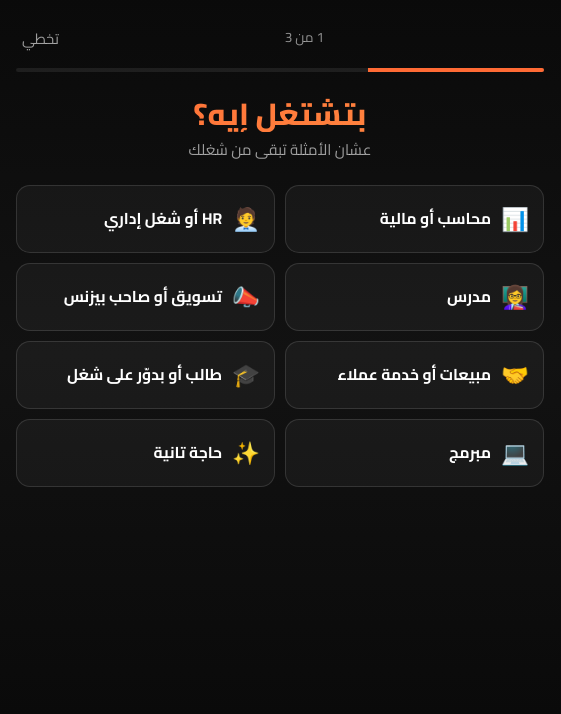
Test case: OnboardingPage › shows a failed save and retries the same answers
Click the radio button labelled "محاسب أو مالية". click: (414, 219)
box: [285,185,544,253]
Wait 250 ms
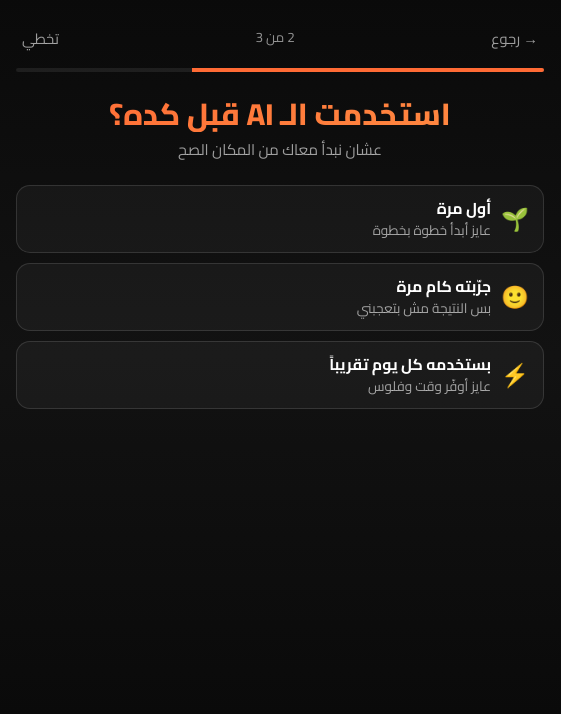
Check: the heading "استخدمت الـ AI قبل كده؟" is shown, box [16,96,544,132]
Click the radio button labelled "🌱 أول مرة عايز أبدأ خطوة بخطوة". click: (464, 208)
box: [16,185,544,253]
Wait 250 ms
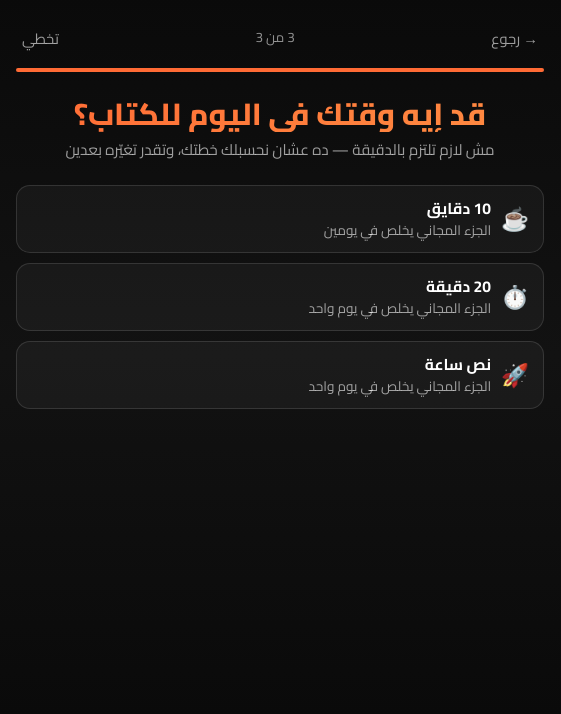
Click the radio button labelled "⏱️ 20 دقيقة الجزء المجاني يخلص في يوم واحد". click: (450, 286)
box: [16,263,544,331]
Wait 250 ms
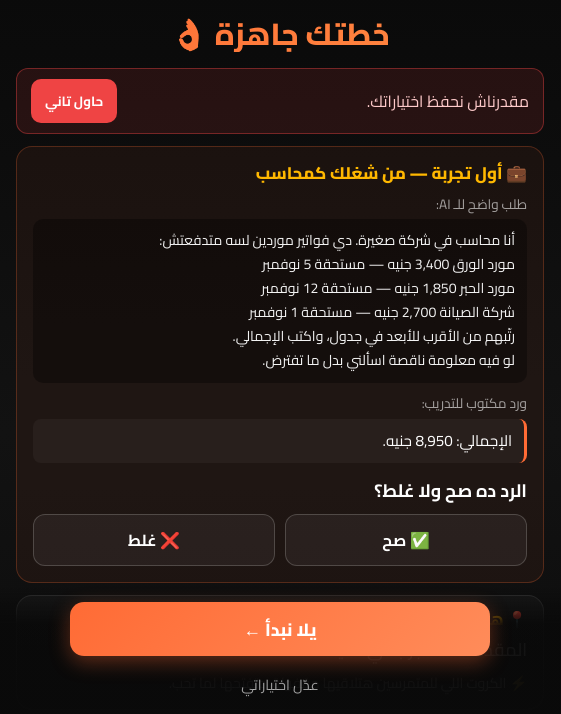
Check: the heading "خطتك جاهزة 👌" is shown, box [16,16,544,52]
Check: the message shows "مقدرناش نحفظ اختياراتك.", box [367,86,529,116]
Click the button "حاول تاني". click: (74, 102)
box: [31,80,117,124]
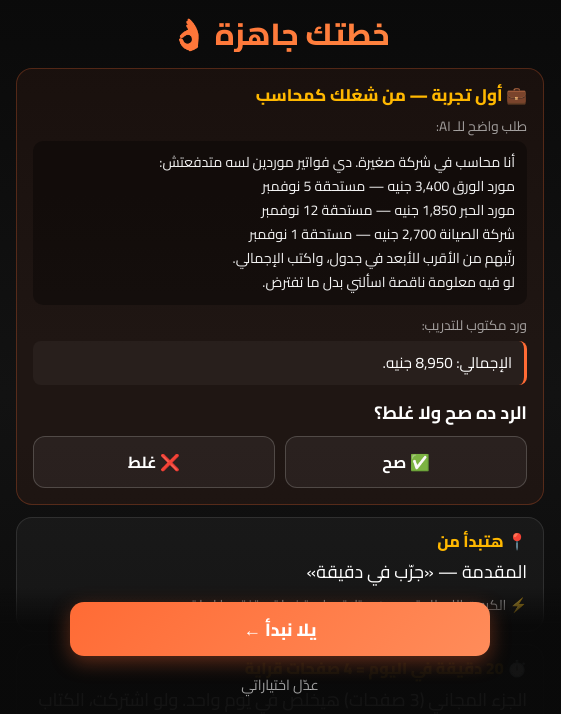
Check: the message "مقدرناش نحفظ اختياراتك. حاول تاني" is gone
